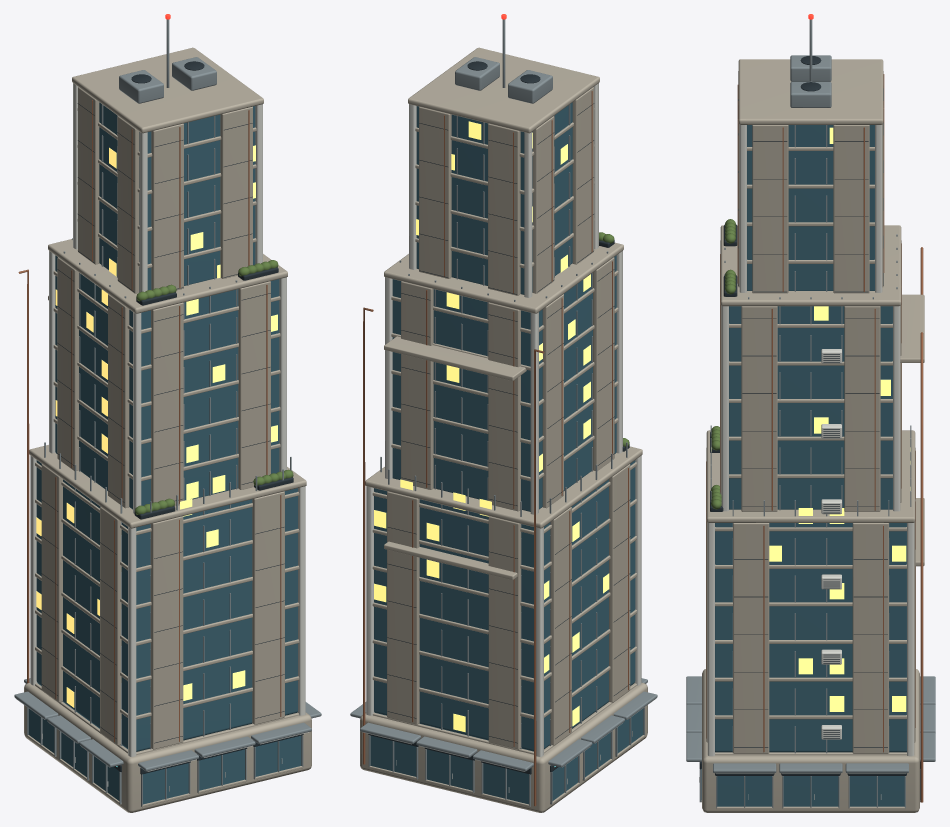
File: tower-2.glb
The picture shows the model from 3 angles, left to right: view 1: azimuth 30°, elevation 25°; view 2: azimuth 150°, elevation 25°; view 3: azimuth 270°, elevation 25°; orthographic projection.
Visible parts, largest first — view 1: NC mineral concrete.002, NC sapphire glazing.002, NC ceramic ivory.002, NC brushed titanium.002, NC oxidized copper.002, NC amber.002, NC graphite.002, NC foliage.002; view 2: NC mineral concrete.002, NC sapphire glazing.002, NC ceramic ivory.002, NC brushed titanium.002, NC oxidized copper.002, NC amber.002, NC graphite.002; view 3: NC mineral concrete.002, NC sapphire glazing.002, NC ceramic ivory.002, NC brushed titanium.002, NC oxidized copper.002, NC graphite.002, NC amber.002, NC foliage.002.
Boxes of the visible parts, box(x1,y1,x2,y2) form: NC mineral concrete.002: box(24, 47, 311, 812); NC sapphire glazing.002: box(28, 102, 301, 804); NC ceramic ivory.002: box(16, 83, 309, 791); NC brushed titanium.002: box(14, 19, 321, 806); NC oxidized copper.002: box(18, 100, 281, 742); NC amber.002: box(36, 145, 277, 707); NC graphite.002: box(41, 61, 303, 774); NC foliage.002: box(135, 260, 293, 514); NC mineral concrete.002: box(360, 47, 647, 812); NC sapphire glazing.002: box(370, 102, 643, 804); NC ceramic ivory.002: box(362, 83, 655, 792); NC brushed titanium.002: box(350, 19, 657, 806); NC oxidized copper.002: box(363, 91, 628, 806); NC amber.002: box(374, 121, 609, 732); NC graphite.002: box(368, 61, 630, 774); NC mineral concrete.002: box(700, 59, 924, 812); NC sapphire glazing.002: box(701, 125, 920, 806); NC ceramic ivory.002: box(699, 125, 914, 799); NC brushed titanium.002: box(686, 19, 935, 808); NC oxidized copper.002: box(706, 74, 923, 802); NC graphite.002: box(699, 56, 920, 775); NC amber.002: box(711, 127, 910, 711); NC foliage.002: box(711, 219, 736, 509).
Bounding box in the file's own units: 24.05 × 80.2 × 24.05.
